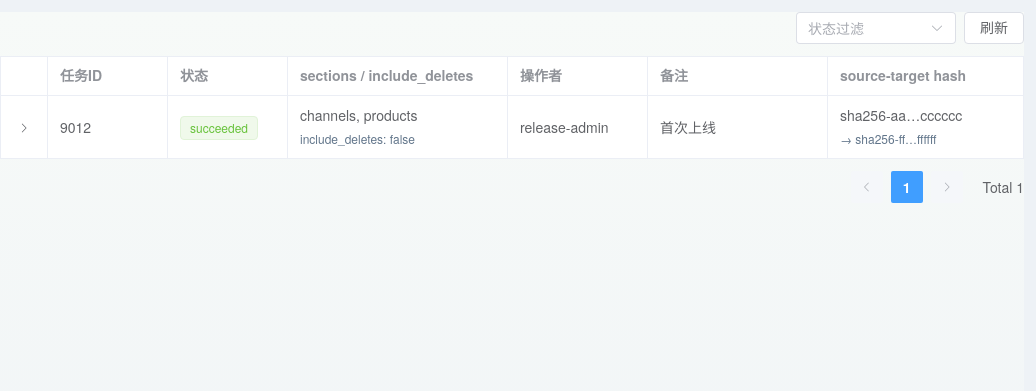
Test: SyncJobsTab › 成功行展开显示 appliedSummary
This screenshot has width=1036, height=391.
Click the icon next to "9012" at (24, 128), box [18, 122, 30, 134]
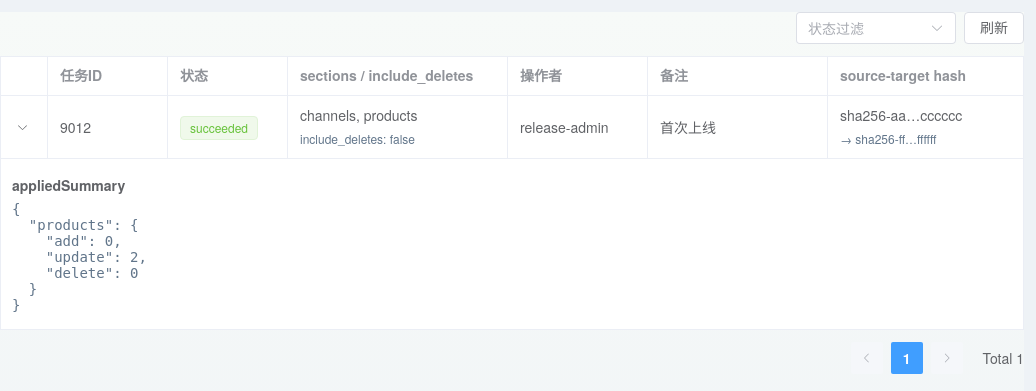
Check: the text "products" is shown, box [300, 105, 417, 125]
Check: the text "appliedSummary" is shown, box [12, 175, 125, 195]
